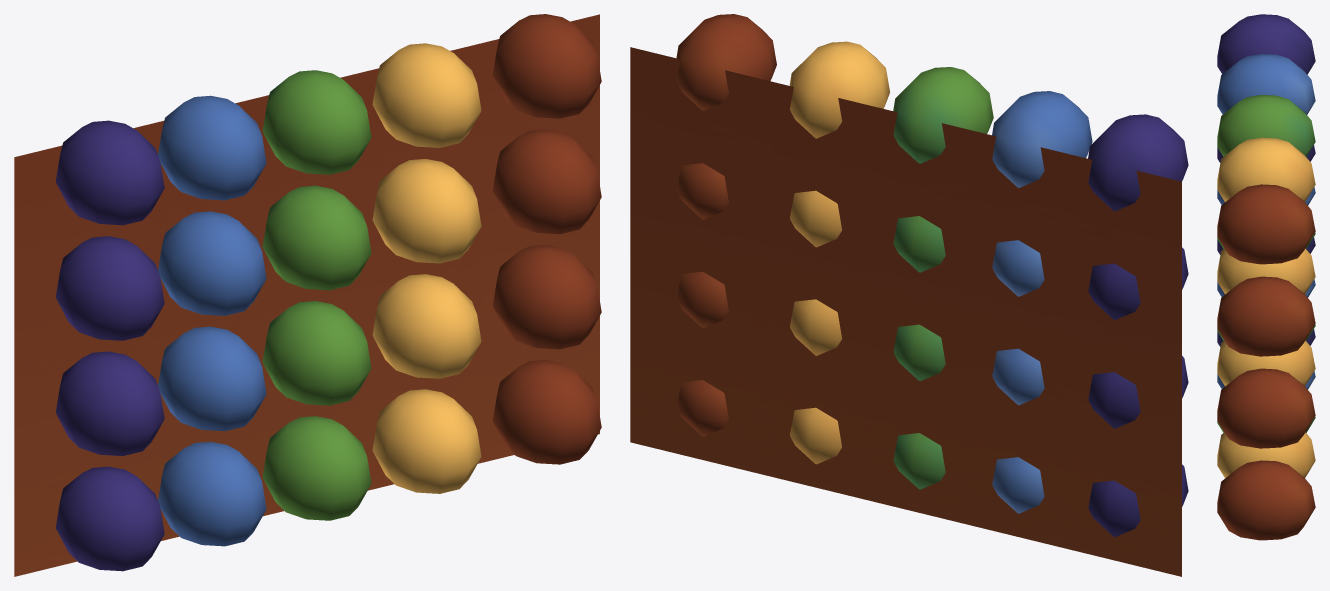
File: MSH_Globos.fbx
3 renders of one model, left to right at view 1: azimuth 30°, elevation 25°; view 2: azimuth 150°, elevation 25°; view 3: azimuth 270°, elevation 25°, orthographic. The views are drawn at different scales.
Parts seen in each view (by area): view 1: Plane007; view 2: Plane007; view 3: Plane007.
Boxes of the visible parts, bbox=[...] form: Plane007: bbox=[14, 14, 601, 576]; Plane007: bbox=[630, 14, 1188, 576]; Plane007: bbox=[1217, 14, 1315, 540].
Size of the model in its own units: 76.91 by 56.46 by 14.02.
